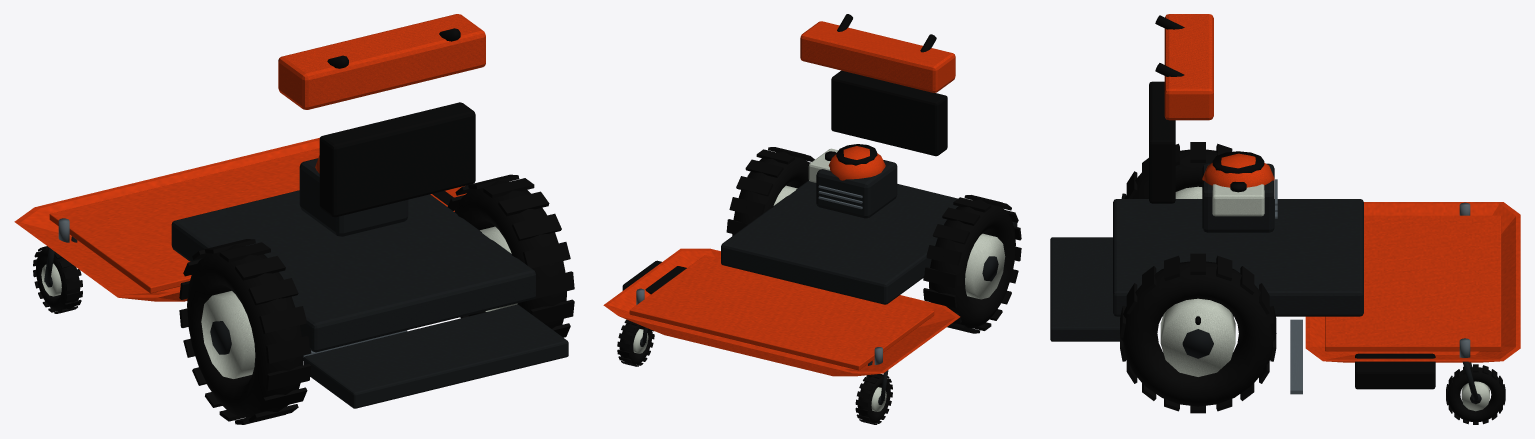
Rendered from StandOnMower.gltf.
3 renders of one model, left to right at view 1: azimuth 30°, elevation 25°; view 2: azimuth 150°, elevation 25°; view 3: azimuth 270°, elevation 25°, orthographic. The views are drawn at different scales.
Visible parts, largest first — view 1: StandOnMower__Body, StandOnMower__Wheel_Rear-1, StandOnMower__Wheel_Rear1, StandOnMower__Wheel_Front-1; view 2: StandOnMower__Body, StandOnMower__Wheel_Rear-1, StandOnMower__Wheel_Rear1, StandOnMower__Wheel_Front-1, StandOnMower__Wheel_Front1; view 3: StandOnMower__Body, StandOnMower__Wheel_Rear1, StandOnMower__Wheel_Front1, StandOnMower__Wheel_Rear-1, StandOnMower.
Boxes of the visible parts, box(x1,y1,x2,y2) form: StandOnMower__Body: box(14, 14, 568, 408); StandOnMower__Wheel_Rear-1: box(179, 239, 311, 424); StandOnMower__Wheel_Rear1: box(447, 174, 574, 337); StandOnMower__Wheel_Front-1: box(33, 246, 82, 313); StandOnMower__Body: box(603, 14, 1017, 401); StandOnMower__Wheel_Rear-1: box(923, 195, 1021, 333); StandOnMower__Wheel_Rear1: box(726, 147, 814, 235); StandOnMower__Wheel_Front-1: box(855, 374, 892, 424); StandOnMower__Wheel_Front1: box(617, 319, 654, 366); StandOnMower__Body: box(1050, 14, 1520, 400); StandOnMower__Wheel_Rear1: box(1120, 253, 1276, 413); StandOnMower__Wheel_Front1: box(1446, 364, 1505, 424); StandOnMower__Wheel_Rear-1: box(1121, 142, 1232, 198); StandOnMower: box(1290, 319, 1302, 394).
Bounding box in the file's own units: 1.4 × 1.26 × 1.68.
Materials: 1 (1 with a texture image).
